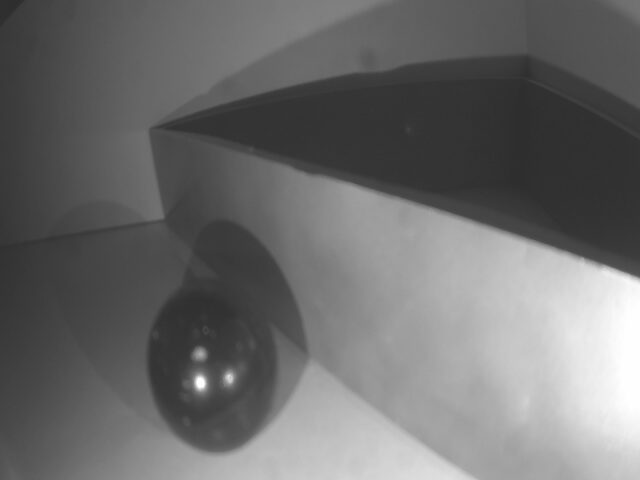Dead: (142, 285, 277, 455)
Green: (148, 131, 640, 480)
